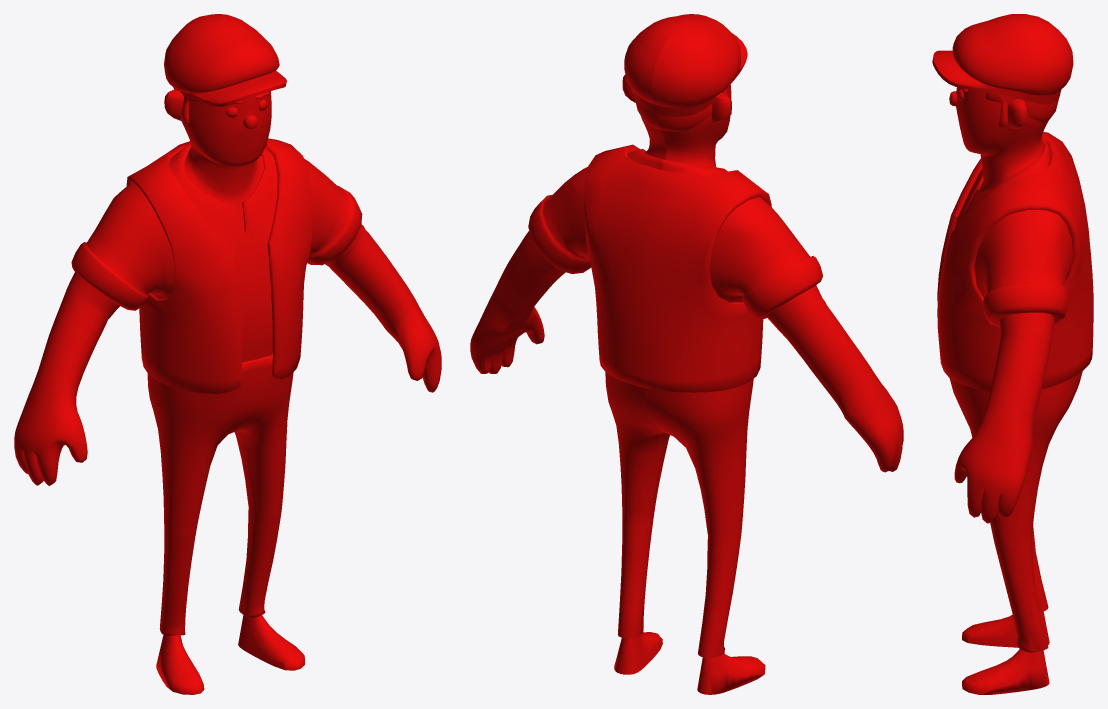
The model's file is LegacyDude_v5.fbx.
3 views of the same model, side by side, from view 1: azimuth 30°, elevation 25°; view 2: azimuth 150°, elevation 25°; view 3: azimuth 270°, elevation 25° (orthographic).
Visible parts, largest first — view 1: LegacyDude_v5_Body_LOW, LegacyDude_v5_Hat_LOW; view 2: LegacyDude_v5_Body_LOW, LegacyDude_v5_Hat_LOW, LegacyDude_v5_Hair_LOW; view 3: LegacyDude_v5_Body_LOW, LegacyDude_v5_Hat_LOW, LegacyDude_v5_Hair_LOW.
Part boxes in pixels (x1,y1,x2,y2): LegacyDude_v5_Body_LOW: [14, 89, 441, 694]; LegacyDude_v5_Hat_LOW: [164, 14, 286, 106]; LegacyDude_v5_Body_LOW: [470, 74, 903, 694]; LegacyDude_v5_Hat_LOW: [624, 14, 747, 116]; LegacyDude_v5_Hair_LOW: [635, 86, 729, 131]; LegacyDude_v5_Body_LOW: [937, 87, 1093, 694]; LegacyDude_v5_Hat_LOW: [932, 14, 1073, 104]; LegacyDude_v5_Hair_LOW: [986, 92, 1058, 127].
Size of the model in its own units: 122 by 180 by 40.85.
